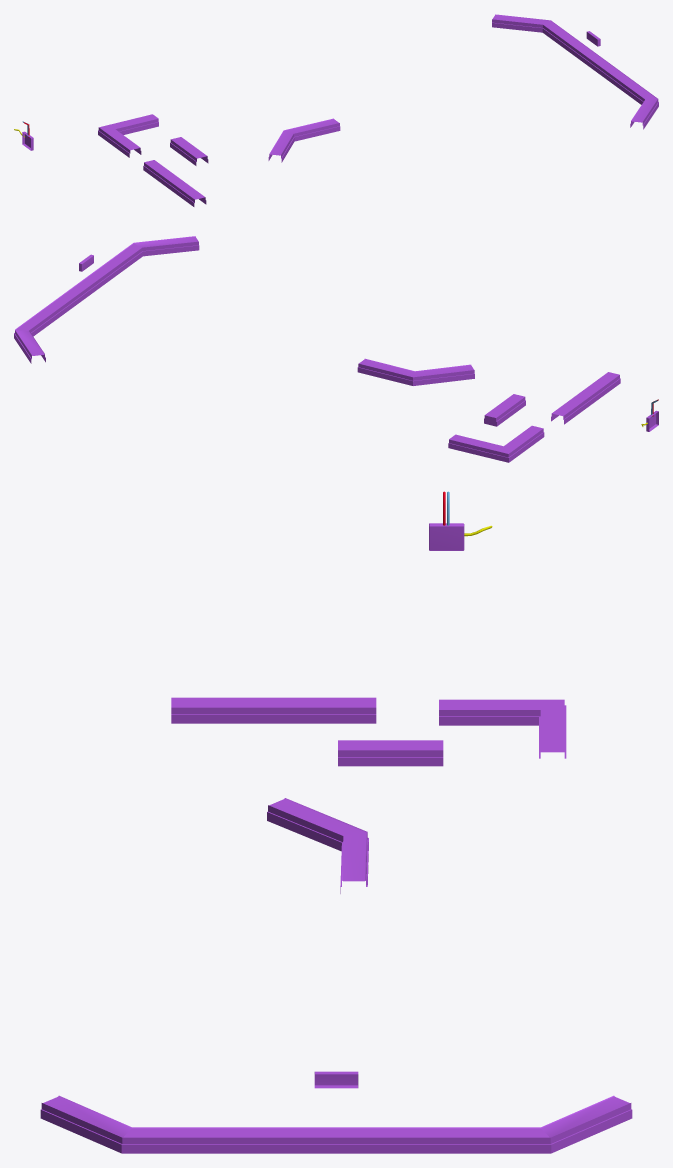
File: Texture1.fbx
3 renders of one model, top to bottom at view 1: azimuth 30°, elevation 25°; view 2: azimuth 150°, elevation 25°; view 3: azimuth 270°, elevation 25°, orthographic. The views are drawn at different scales.
Visible parts, largest first — view 1: Arc45_right3, Under_Base2, Under_Base1, UnderBase1, UnderBase2; view 2: Arc45_right3, Under_Base1, Under_Base2, UnderBase1, UnderBase2; view 3: Arc45_right3, UnderBase1, Under_Base2, Under_Base1, UnderBase2, Wife1.
Part boxes in pixels (bbox=[...]): Arc45_right3: bbox=[492, 14, 658, 129]; Under_Base2: bbox=[98, 114, 158, 157]; Under_Base1: bbox=[268, 118, 340, 162]; UnderBase1: bbox=[143, 160, 206, 206]; UnderBase2: bbox=[170, 137, 208, 165]; Arc45_right3: bbox=[14, 236, 199, 363]; Under_Base1: bbox=[357, 358, 474, 385]; Under_Base2: bbox=[448, 425, 544, 462]; UnderBase1: bbox=[551, 372, 620, 424]; UnderBase2: bbox=[484, 394, 525, 426]; Arc45_right3: bbox=[40, 1095, 632, 1153]; UnderBase1: bbox=[171, 697, 376, 723]; Under_Base2: bbox=[439, 699, 566, 758]; Under_Base1: bbox=[267, 798, 368, 893]; UnderBase2: bbox=[338, 740, 443, 766]; Wife1: bbox=[429, 491, 492, 550].
Bounding box in the file's own units: 38.2 × 3.99 × 17.65.
